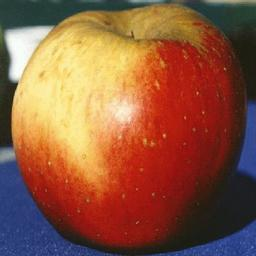apple: (11, 2, 245, 250)
